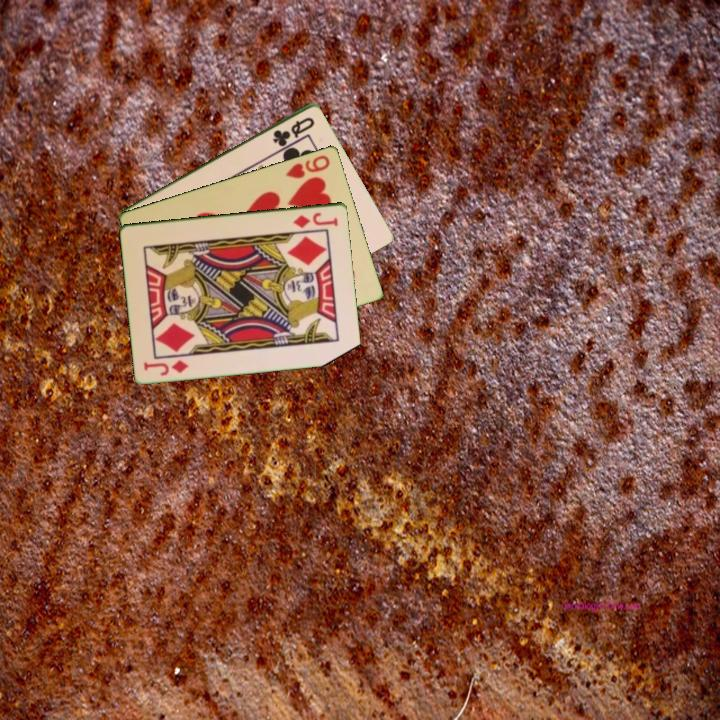9h: (282, 151, 333, 181)
Jd: (290, 208, 341, 231), (140, 356, 191, 378)
Qc: (269, 113, 318, 149)
